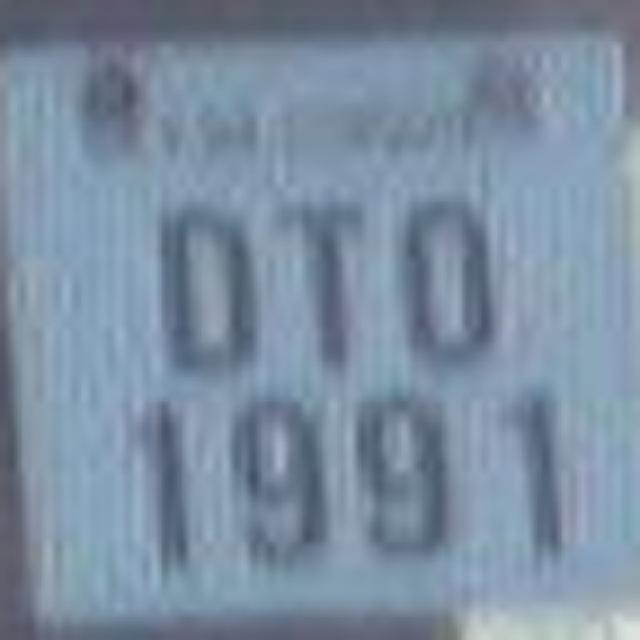1: (488, 352, 584, 608), (129, 385, 196, 580)
8: (340, 360, 468, 585)
9: (220, 372, 335, 572)
O: (148, 176, 268, 389), (391, 168, 504, 388)
T: (268, 175, 380, 380)
